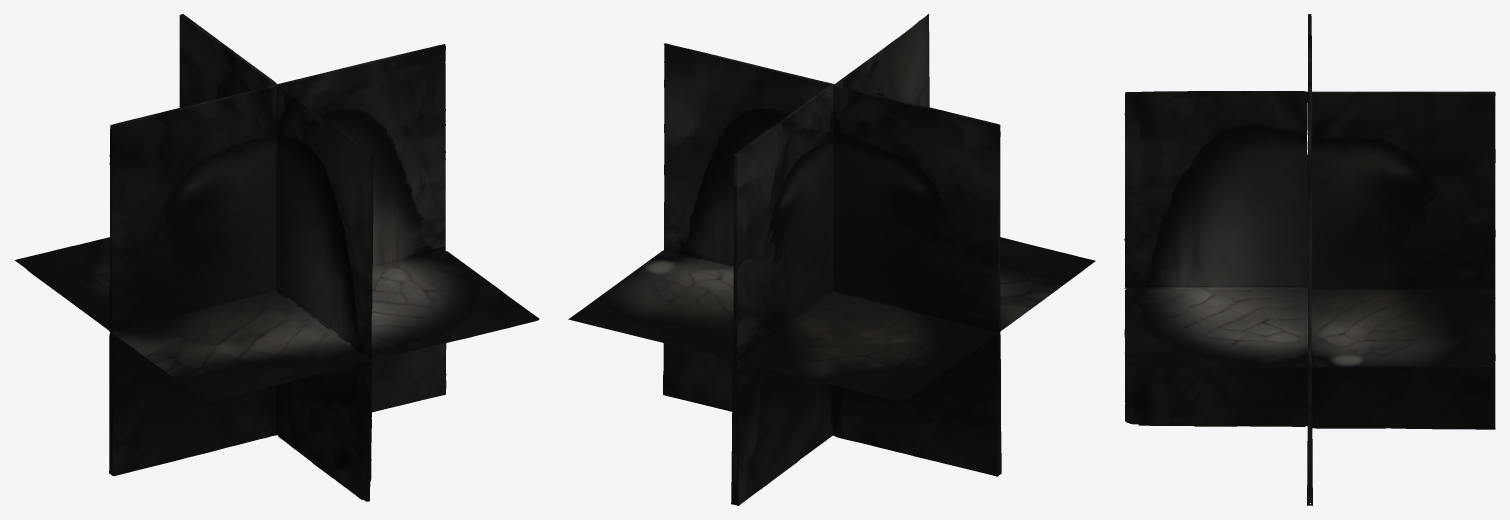
3 views of the same model, side by side, from view 1: azimuth 30°, elevation 25°; view 2: azimuth 150°, elevation 25°; view 3: azimuth 270°, elevation 25° (orthographic). The views are drawn at different scales.
Visible parts, largest first — view 1: world; view 2: world; view 3: world.
Boxes of the visible parts, x1=… form: world: x1=14, y1=14, x2=539, y2=501; world: x1=568, y1=14, x2=1095, y2=505; world: x1=1124, y1=14, x2=1495, y2=505.
Size of the model in its own units: 1 by 1 by 1.
Materials: 1 (1 with a texture image).
